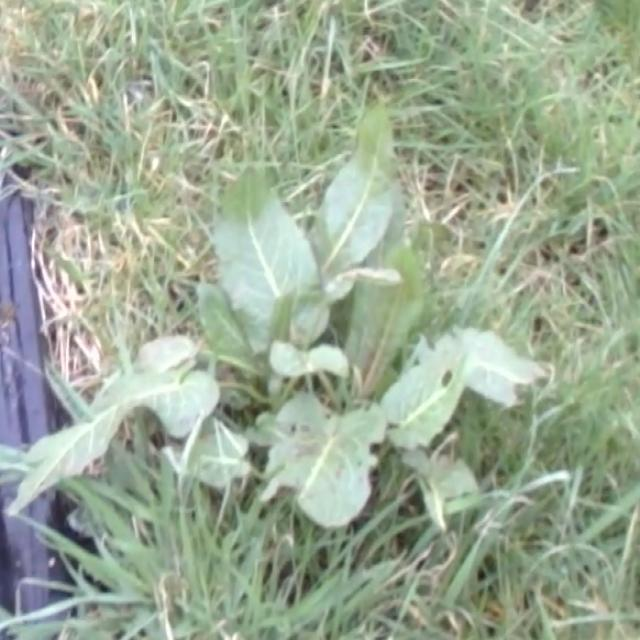organic waste: (22, 114, 536, 542)
